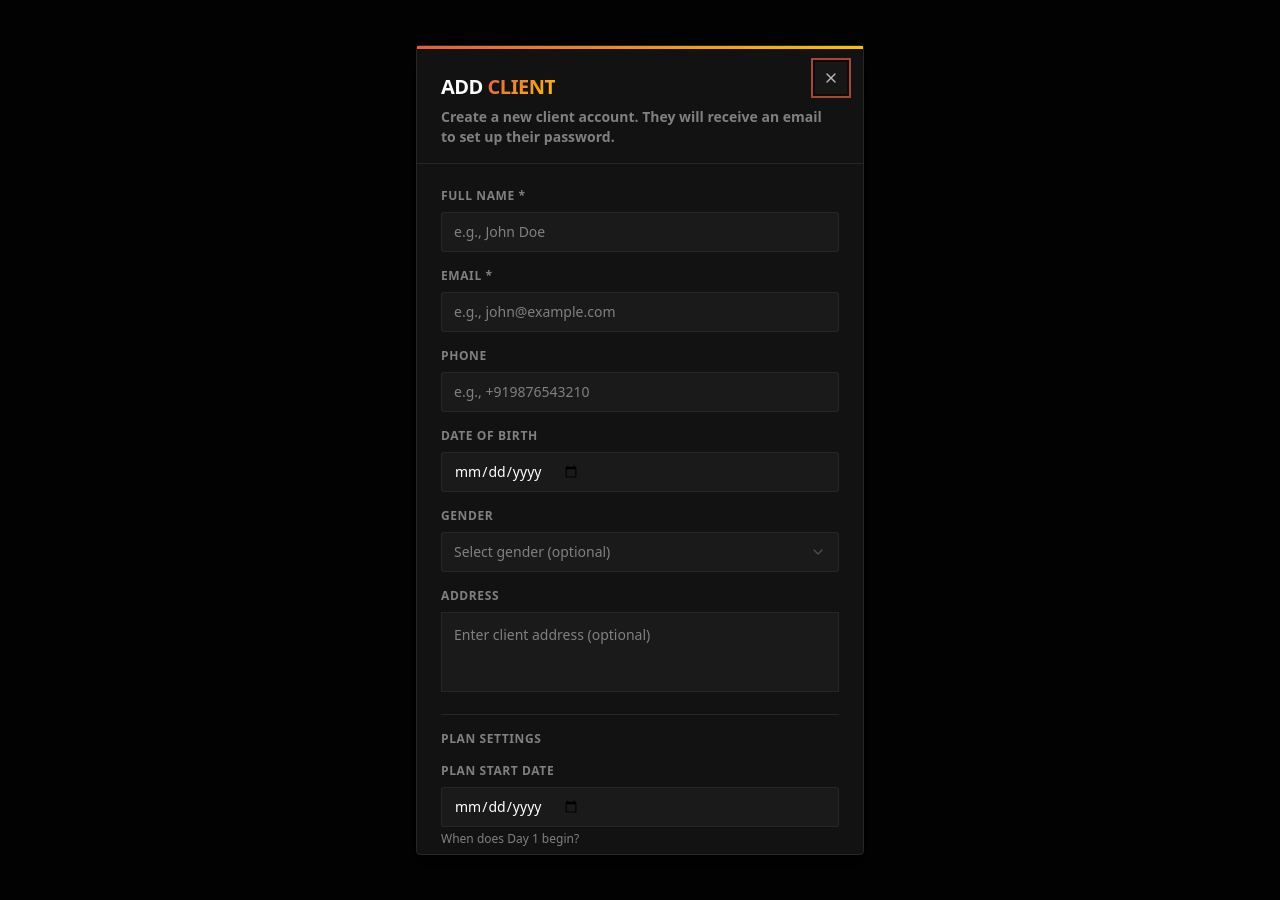
Test case: AddClientModal Component › Error Handling › shows server error message on API failure
Step 1. Type "John Doe" into the field labelled "Full Name *" → (640, 232), box 441,212 -> 839,252
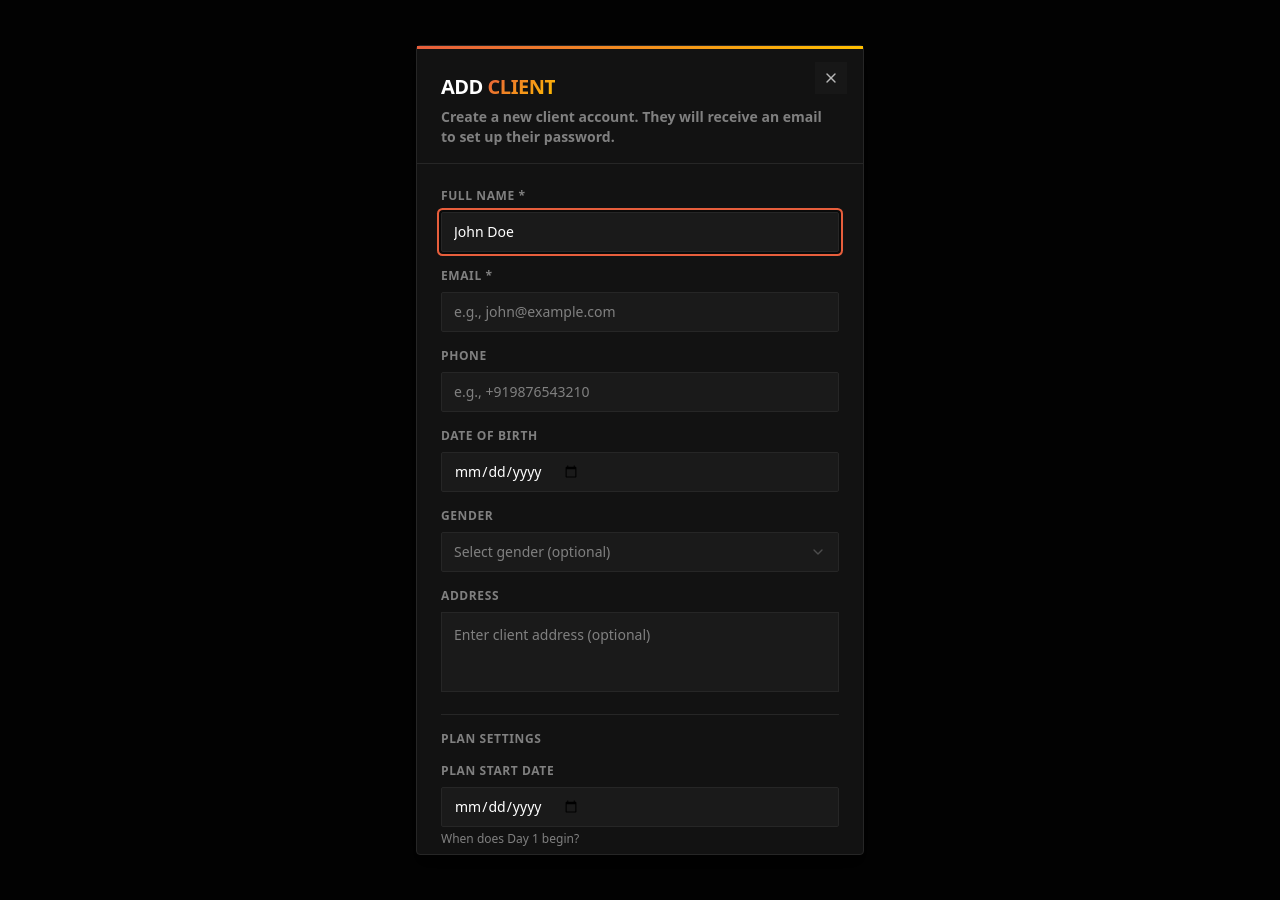
Step 2. Type "existing@example.com" into the field labelled "Email *" → (640, 312), box 441,292 -> 839,332
(page scrolled)
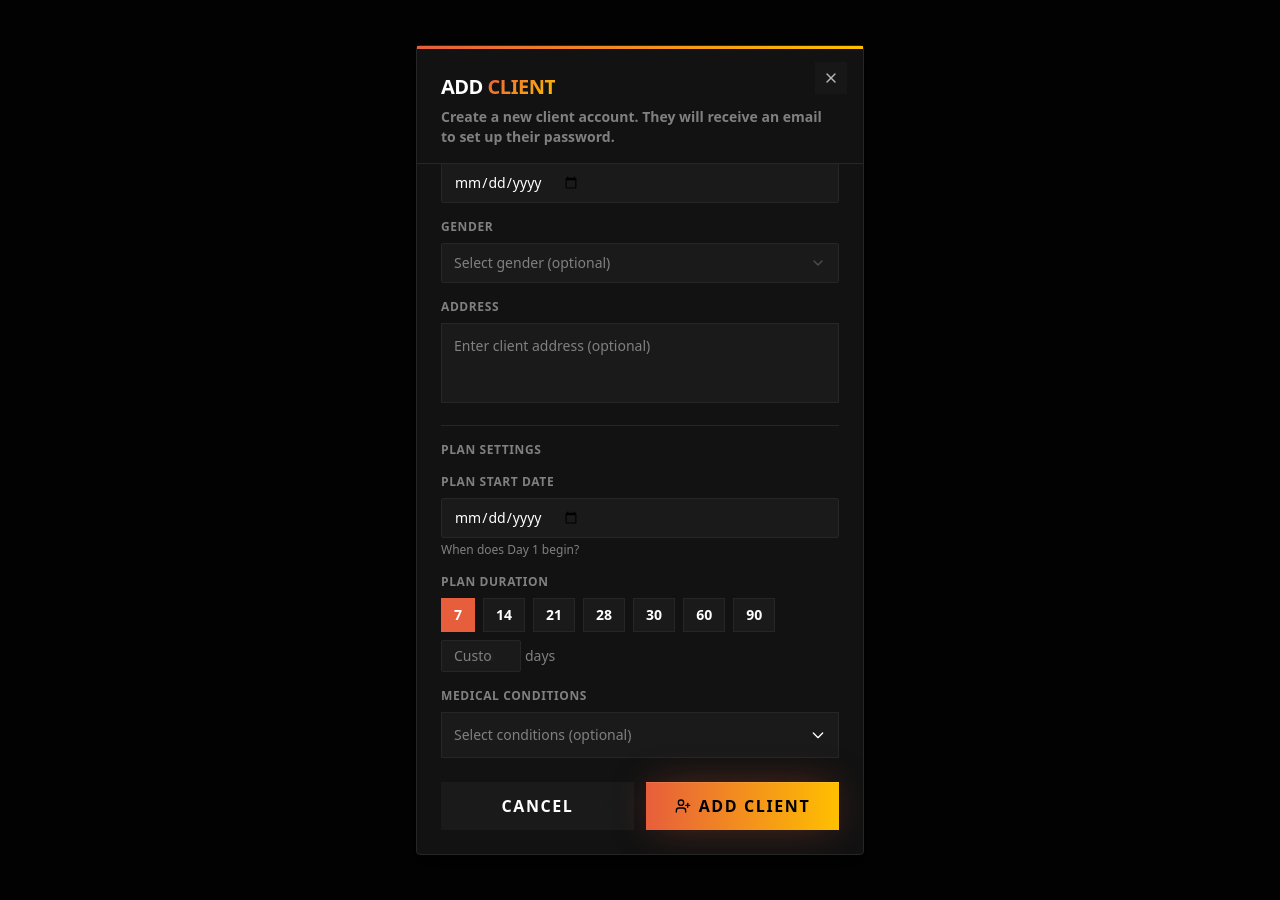
Step 3. Click the button "Add Client" → (742, 806), box 646,782 -> 839,830
(page scrolled)
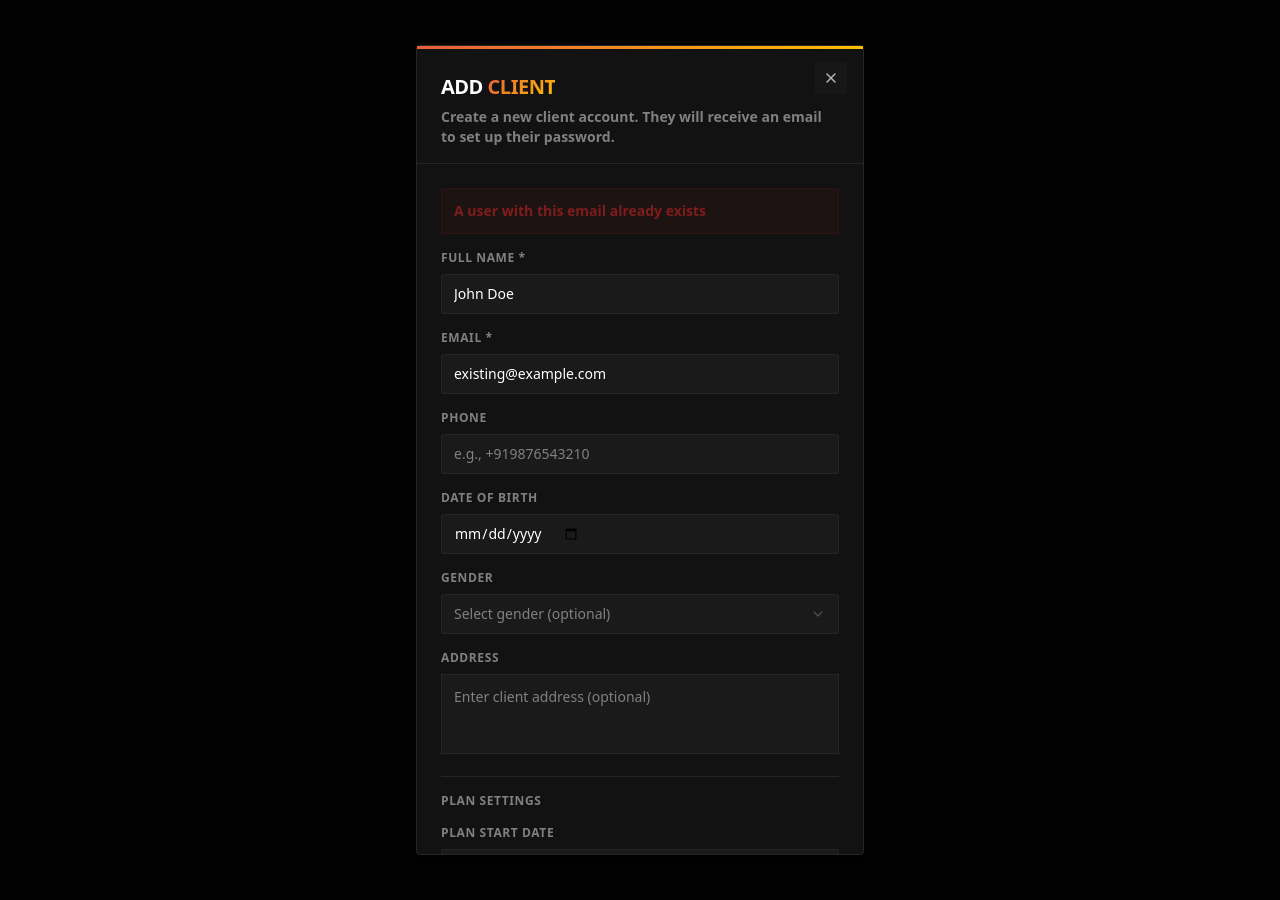
Check: the text "A user with this email already exists" is shown, box 441,188 -> 839,234
